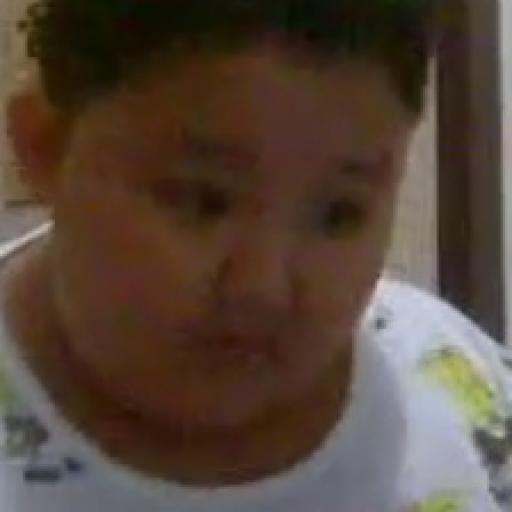Autism: (35, 22, 476, 458)
